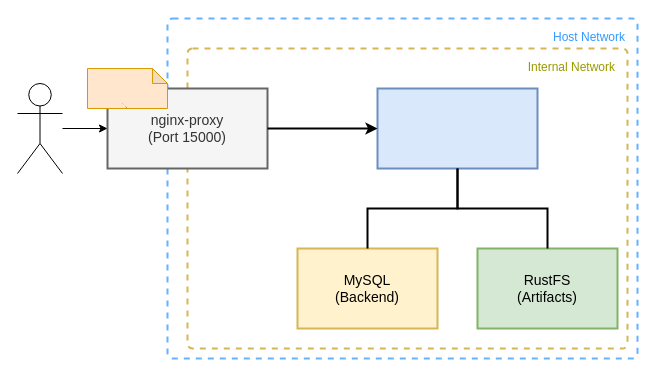
This 656x376 diagram has some shape labels left out. The centre of each missing label's shape, as x and y in pixels:
Basic Auth: the point at 127,88
MLflow: the point at 457,128
User: the point at 39,128
